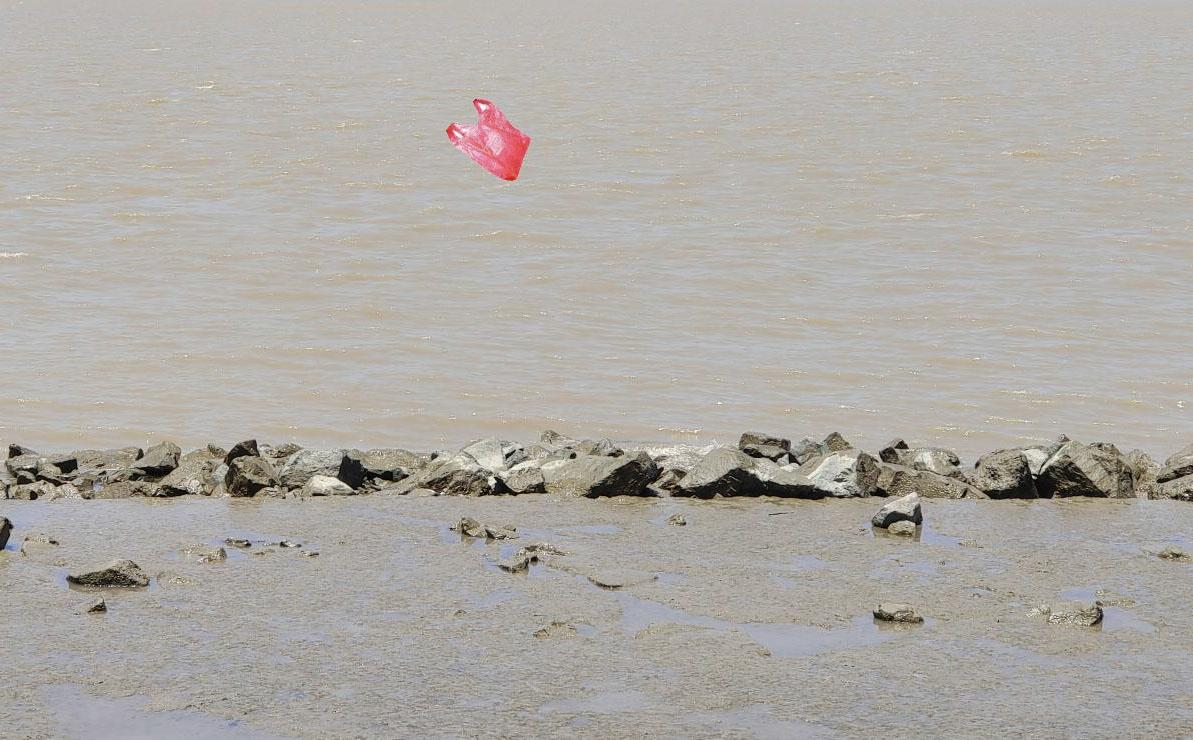Trash: (449, 97, 530, 181)
